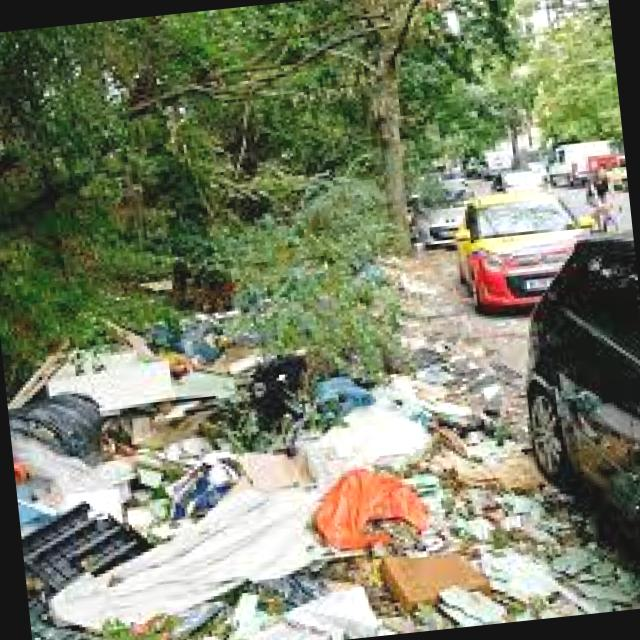garbage: (0, 260, 524, 640)
